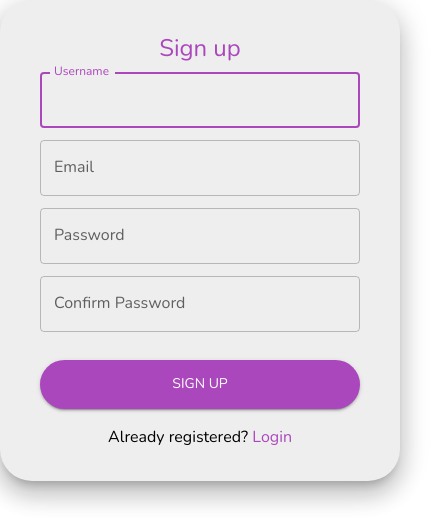
Signup form › should check username, email, password and confirm password values. Also Loading... as button text after submit the form
The width and height of the screenshot is (432, 524).
Type "John" into the field labelled "Username" at (200, 100), box [40, 72, 360, 128]
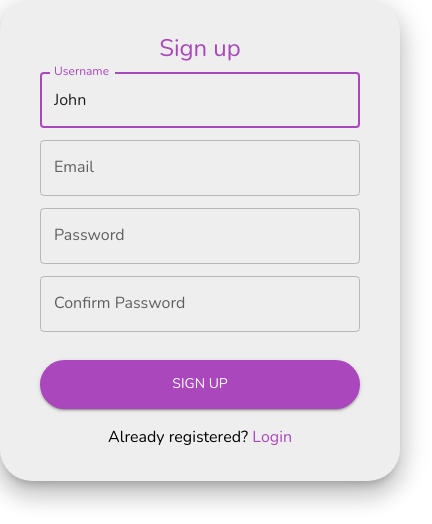
Type "john.dee@someemail.com" into the field labelled "Email" at (200, 168), box [40, 140, 360, 196]
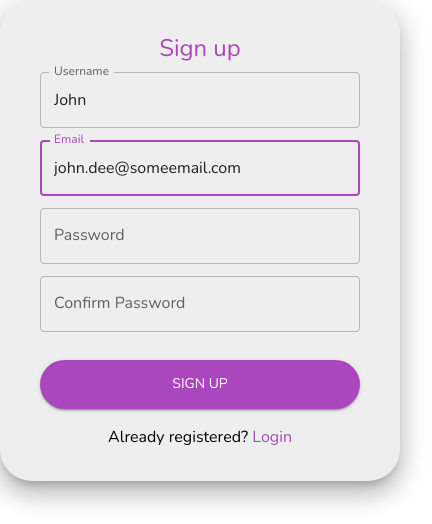
Type "Dee123456" into the password field labelled "Password" at (200, 236), box [40, 208, 360, 264]
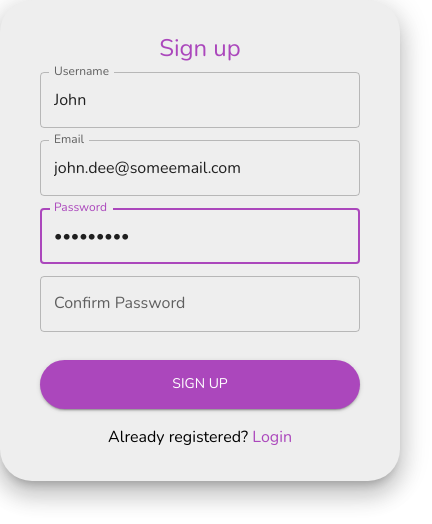
Type "Dee123456" into the password field labelled "Confirm Password" at (200, 304), box [40, 276, 360, 332]
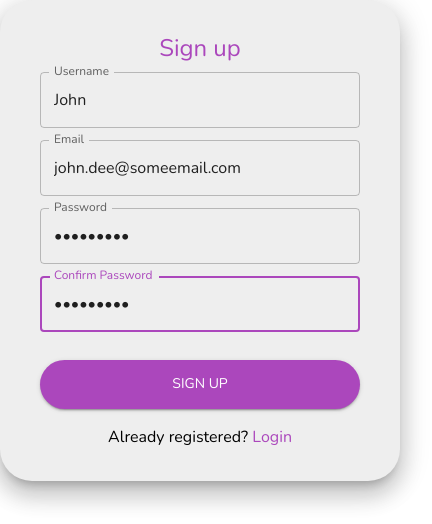
Click the button "sign up" at (200, 385), box [40, 360, 360, 409]
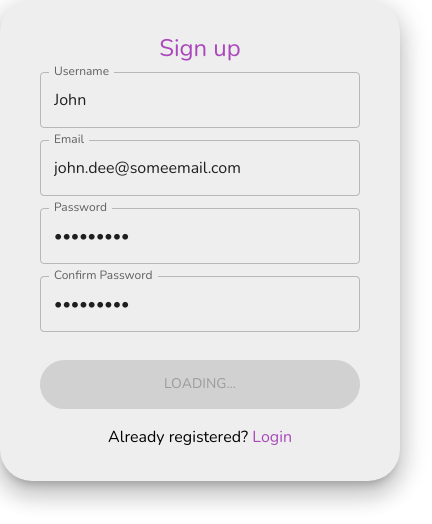
Expected: the button "Loading..." is shown, [40, 360, 360, 409]
